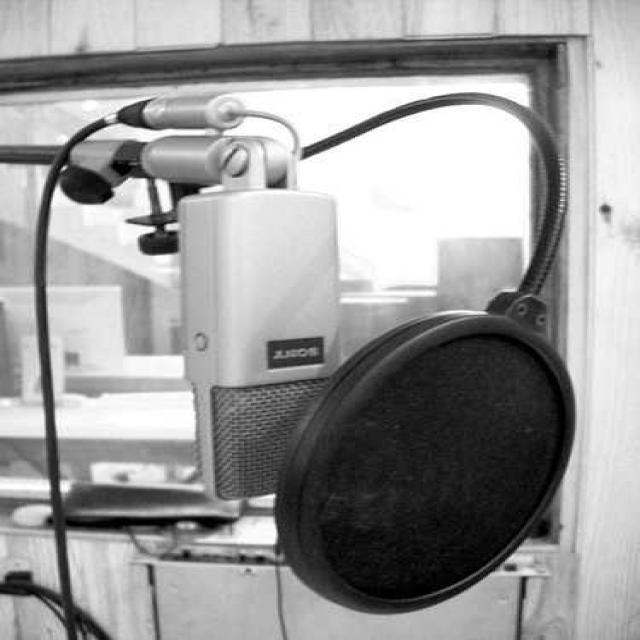microphone: (181, 174, 337, 501)
